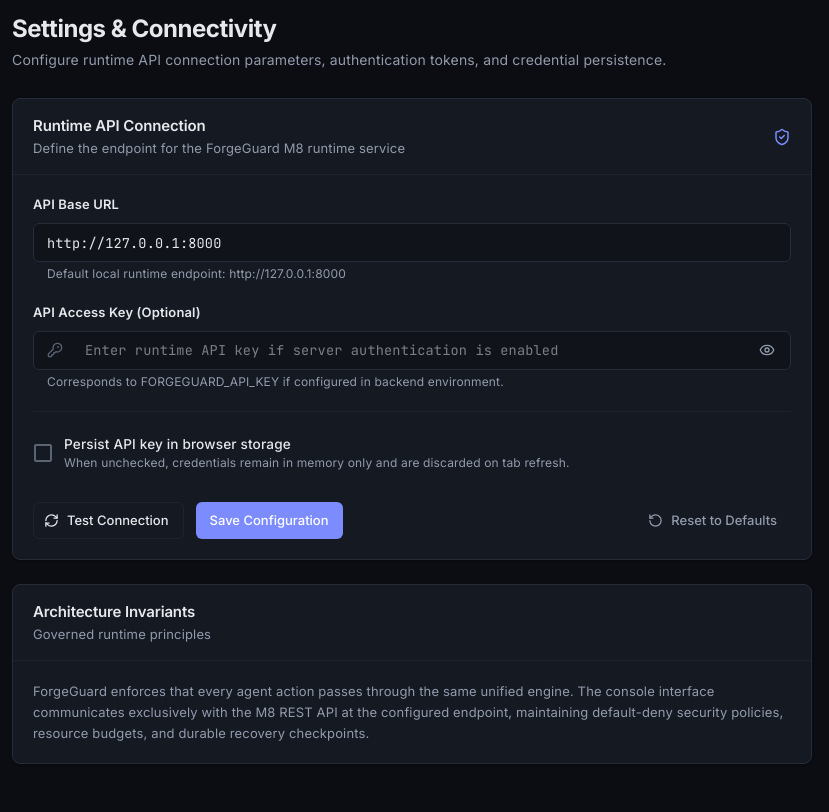
SettingsPage › handles failed API connection test gracefully
What coordinates should you click on to do the following:
click the button "Test Connection"
I would click on:
 (108, 520)
Its box is [33,502,184,539].
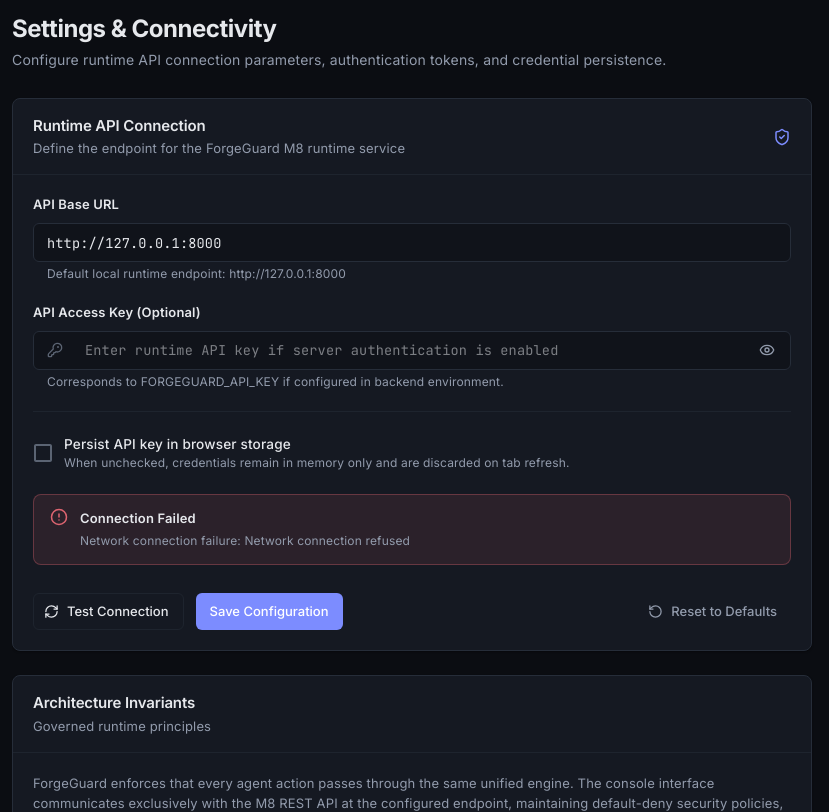
Expected: the text "Connection Failed" is shown, [80,510,196,526]
